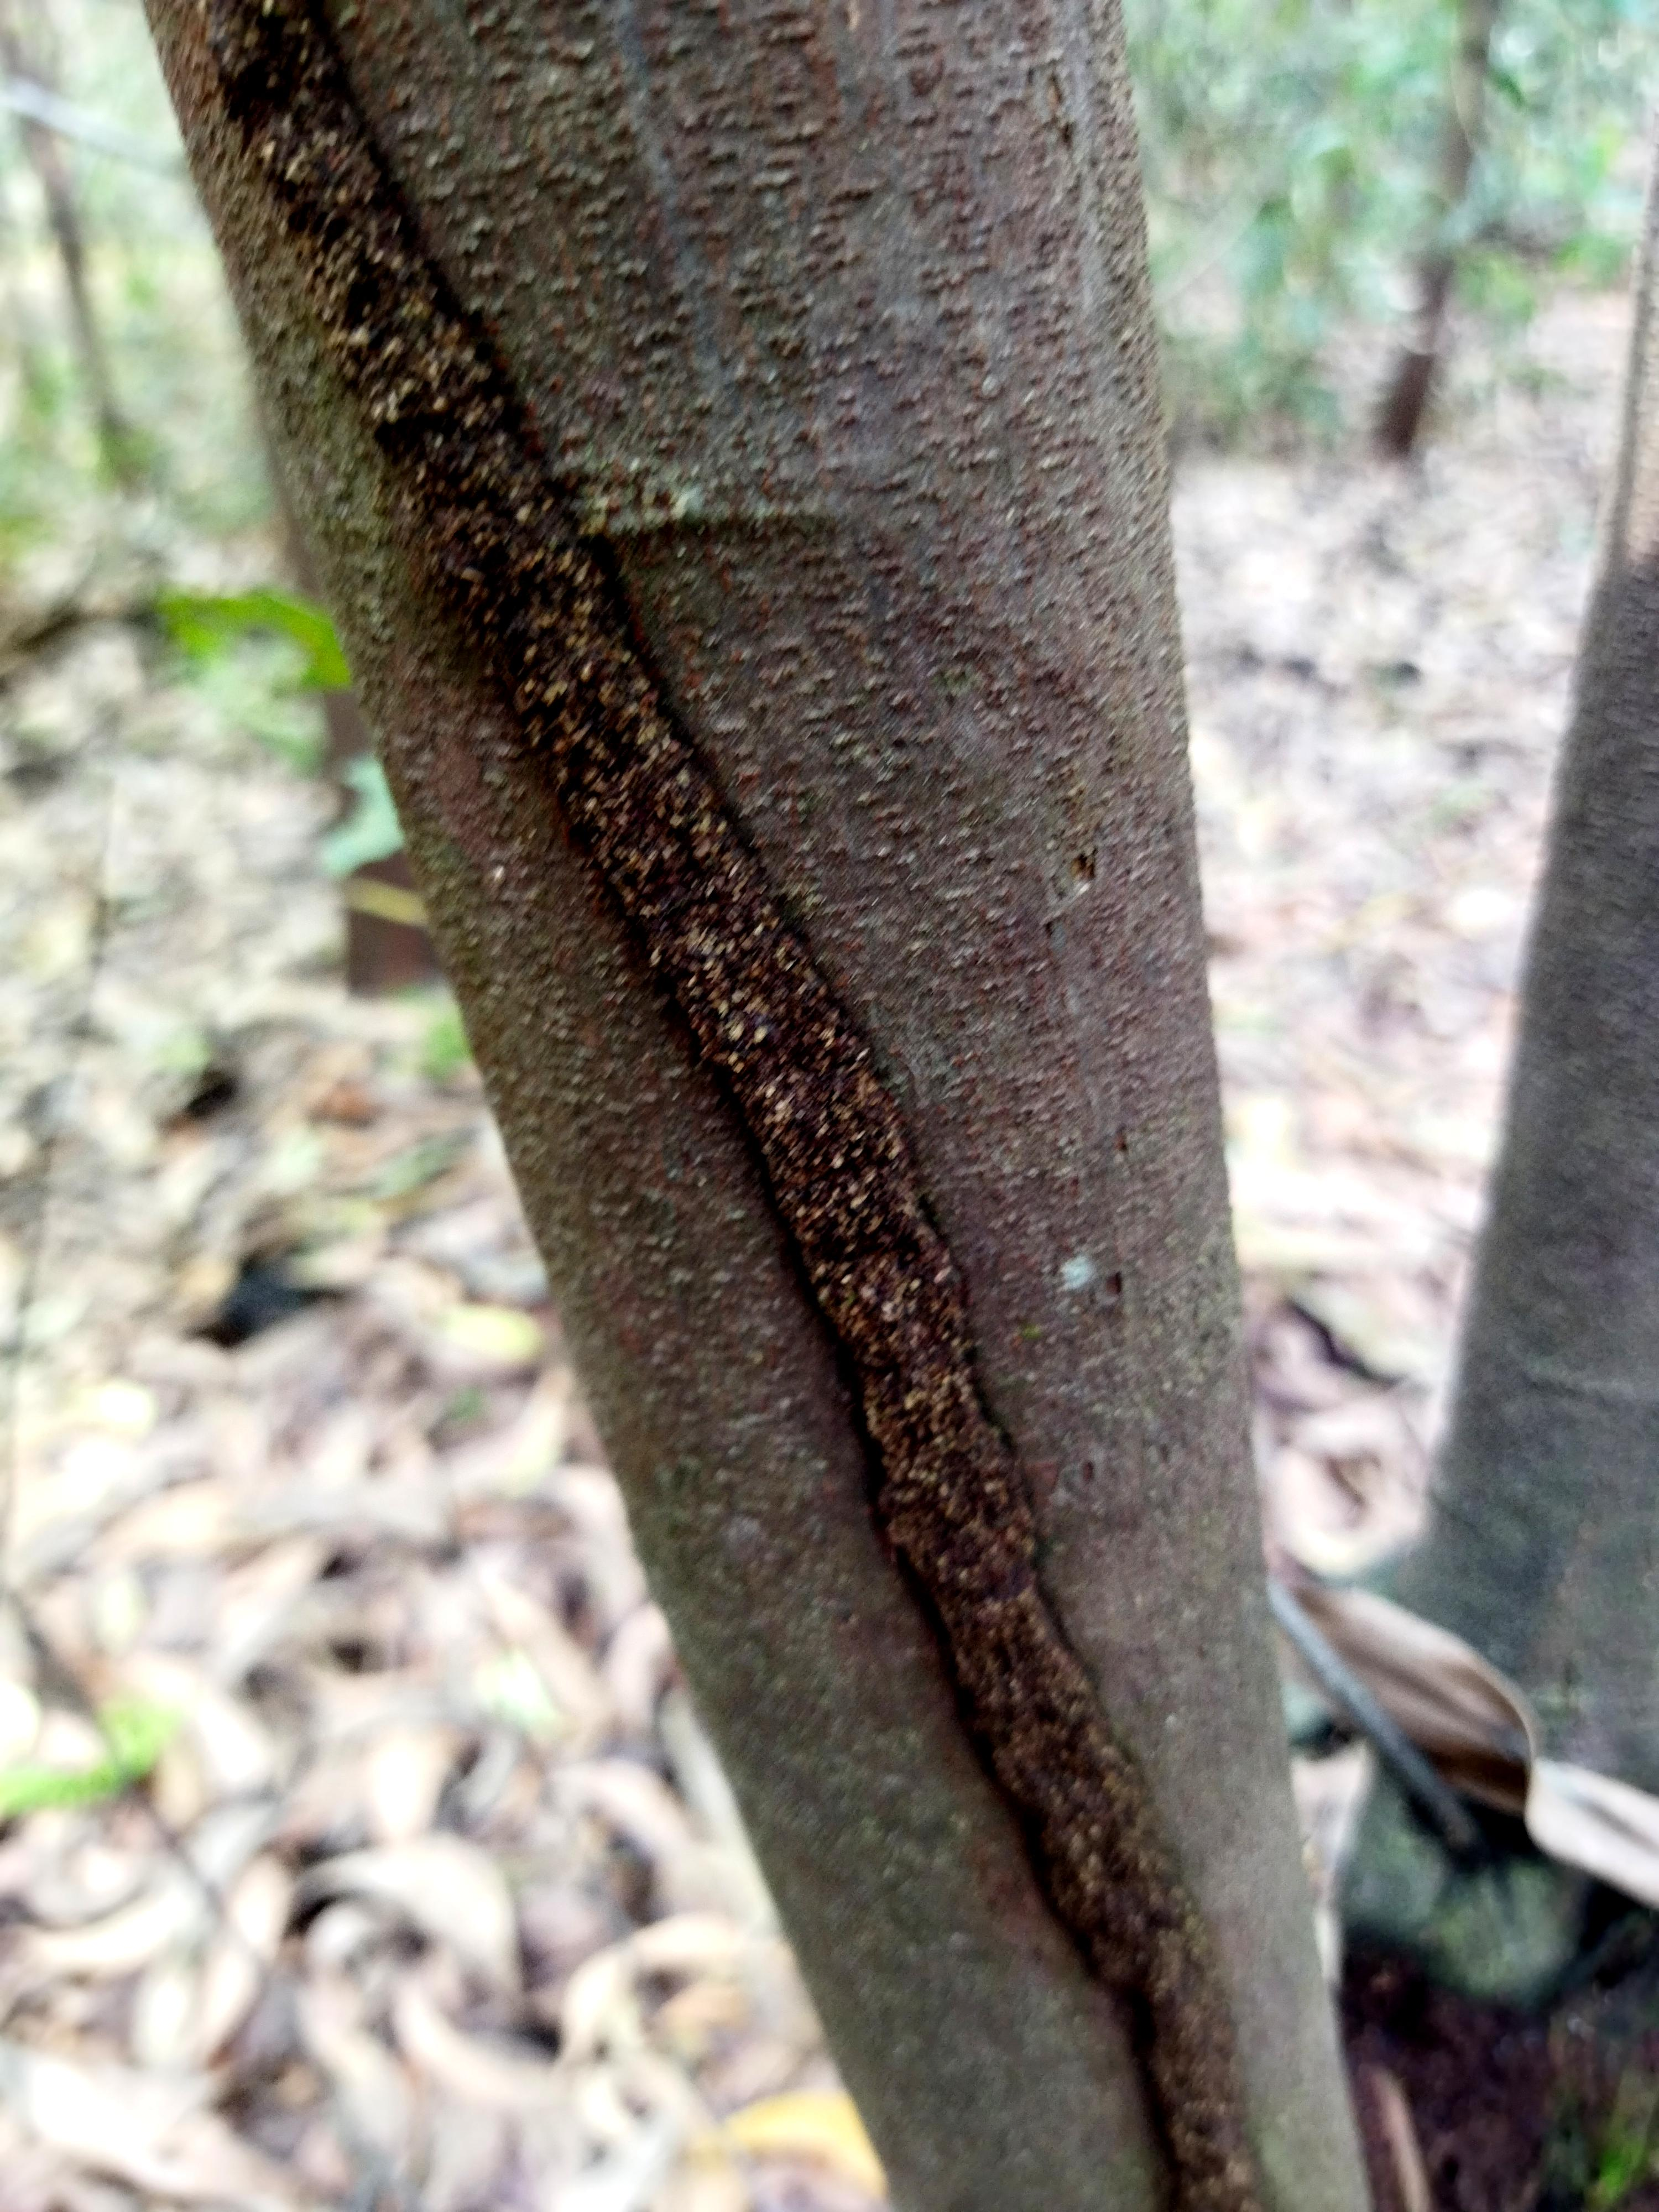Termite - Nest: (162, 0, 1297, 2212)
